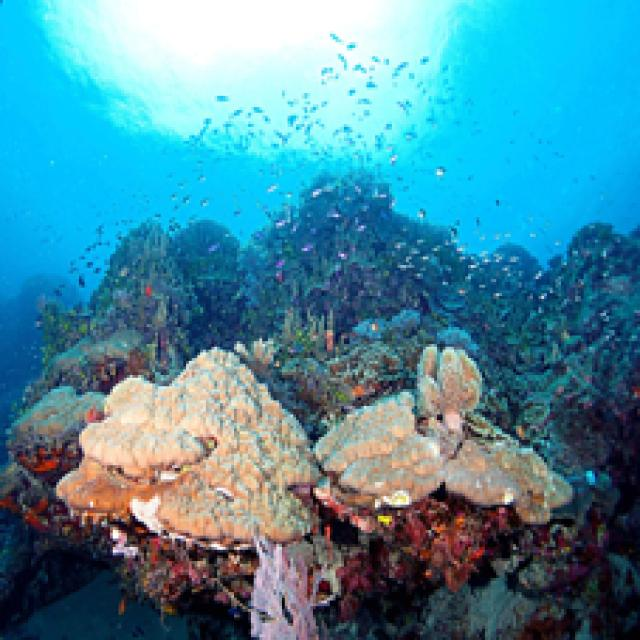Bleached: (12, 390, 102, 483)
Healthy: (57, 353, 317, 545), (317, 348, 571, 523), (252, 537, 317, 638)
